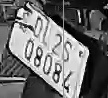0: (24, 37, 34, 63), (43, 53, 52, 79)
2: (50, 31, 63, 59)
4: (62, 69, 73, 97)
8: (51, 62, 63, 87), (32, 44, 43, 71)
D: (32, 15, 41, 40)
L: (41, 24, 50, 48)
S: (61, 39, 72, 66)
